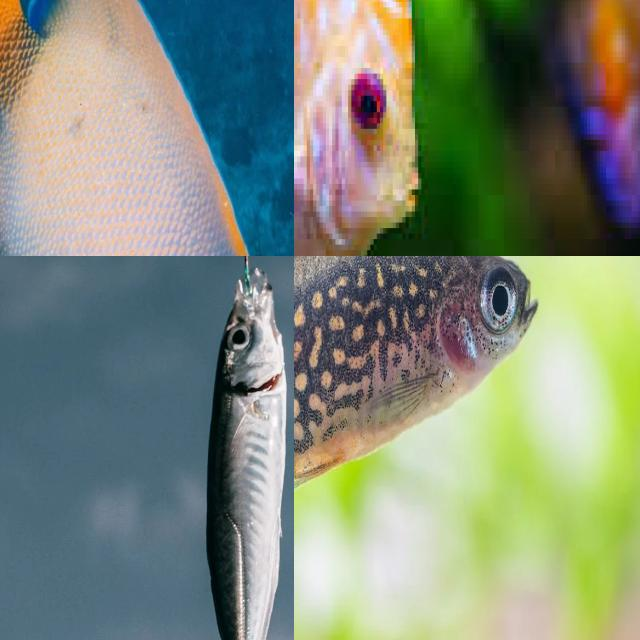fish: (294, 0, 640, 256), (0, 0, 294, 256), (294, 494, 640, 640)
